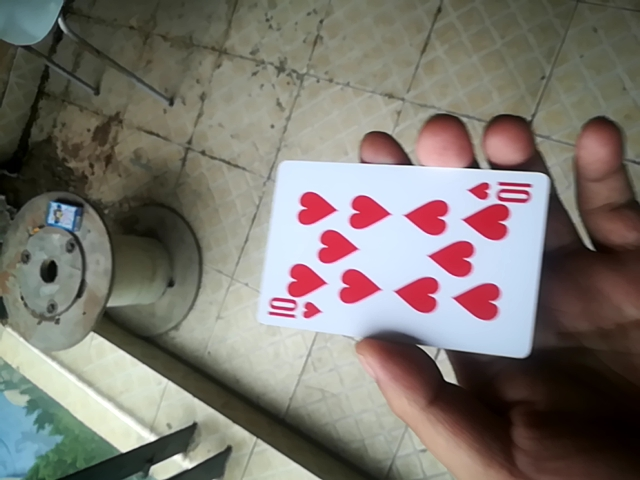hx 10: (255, 160, 549, 358)
